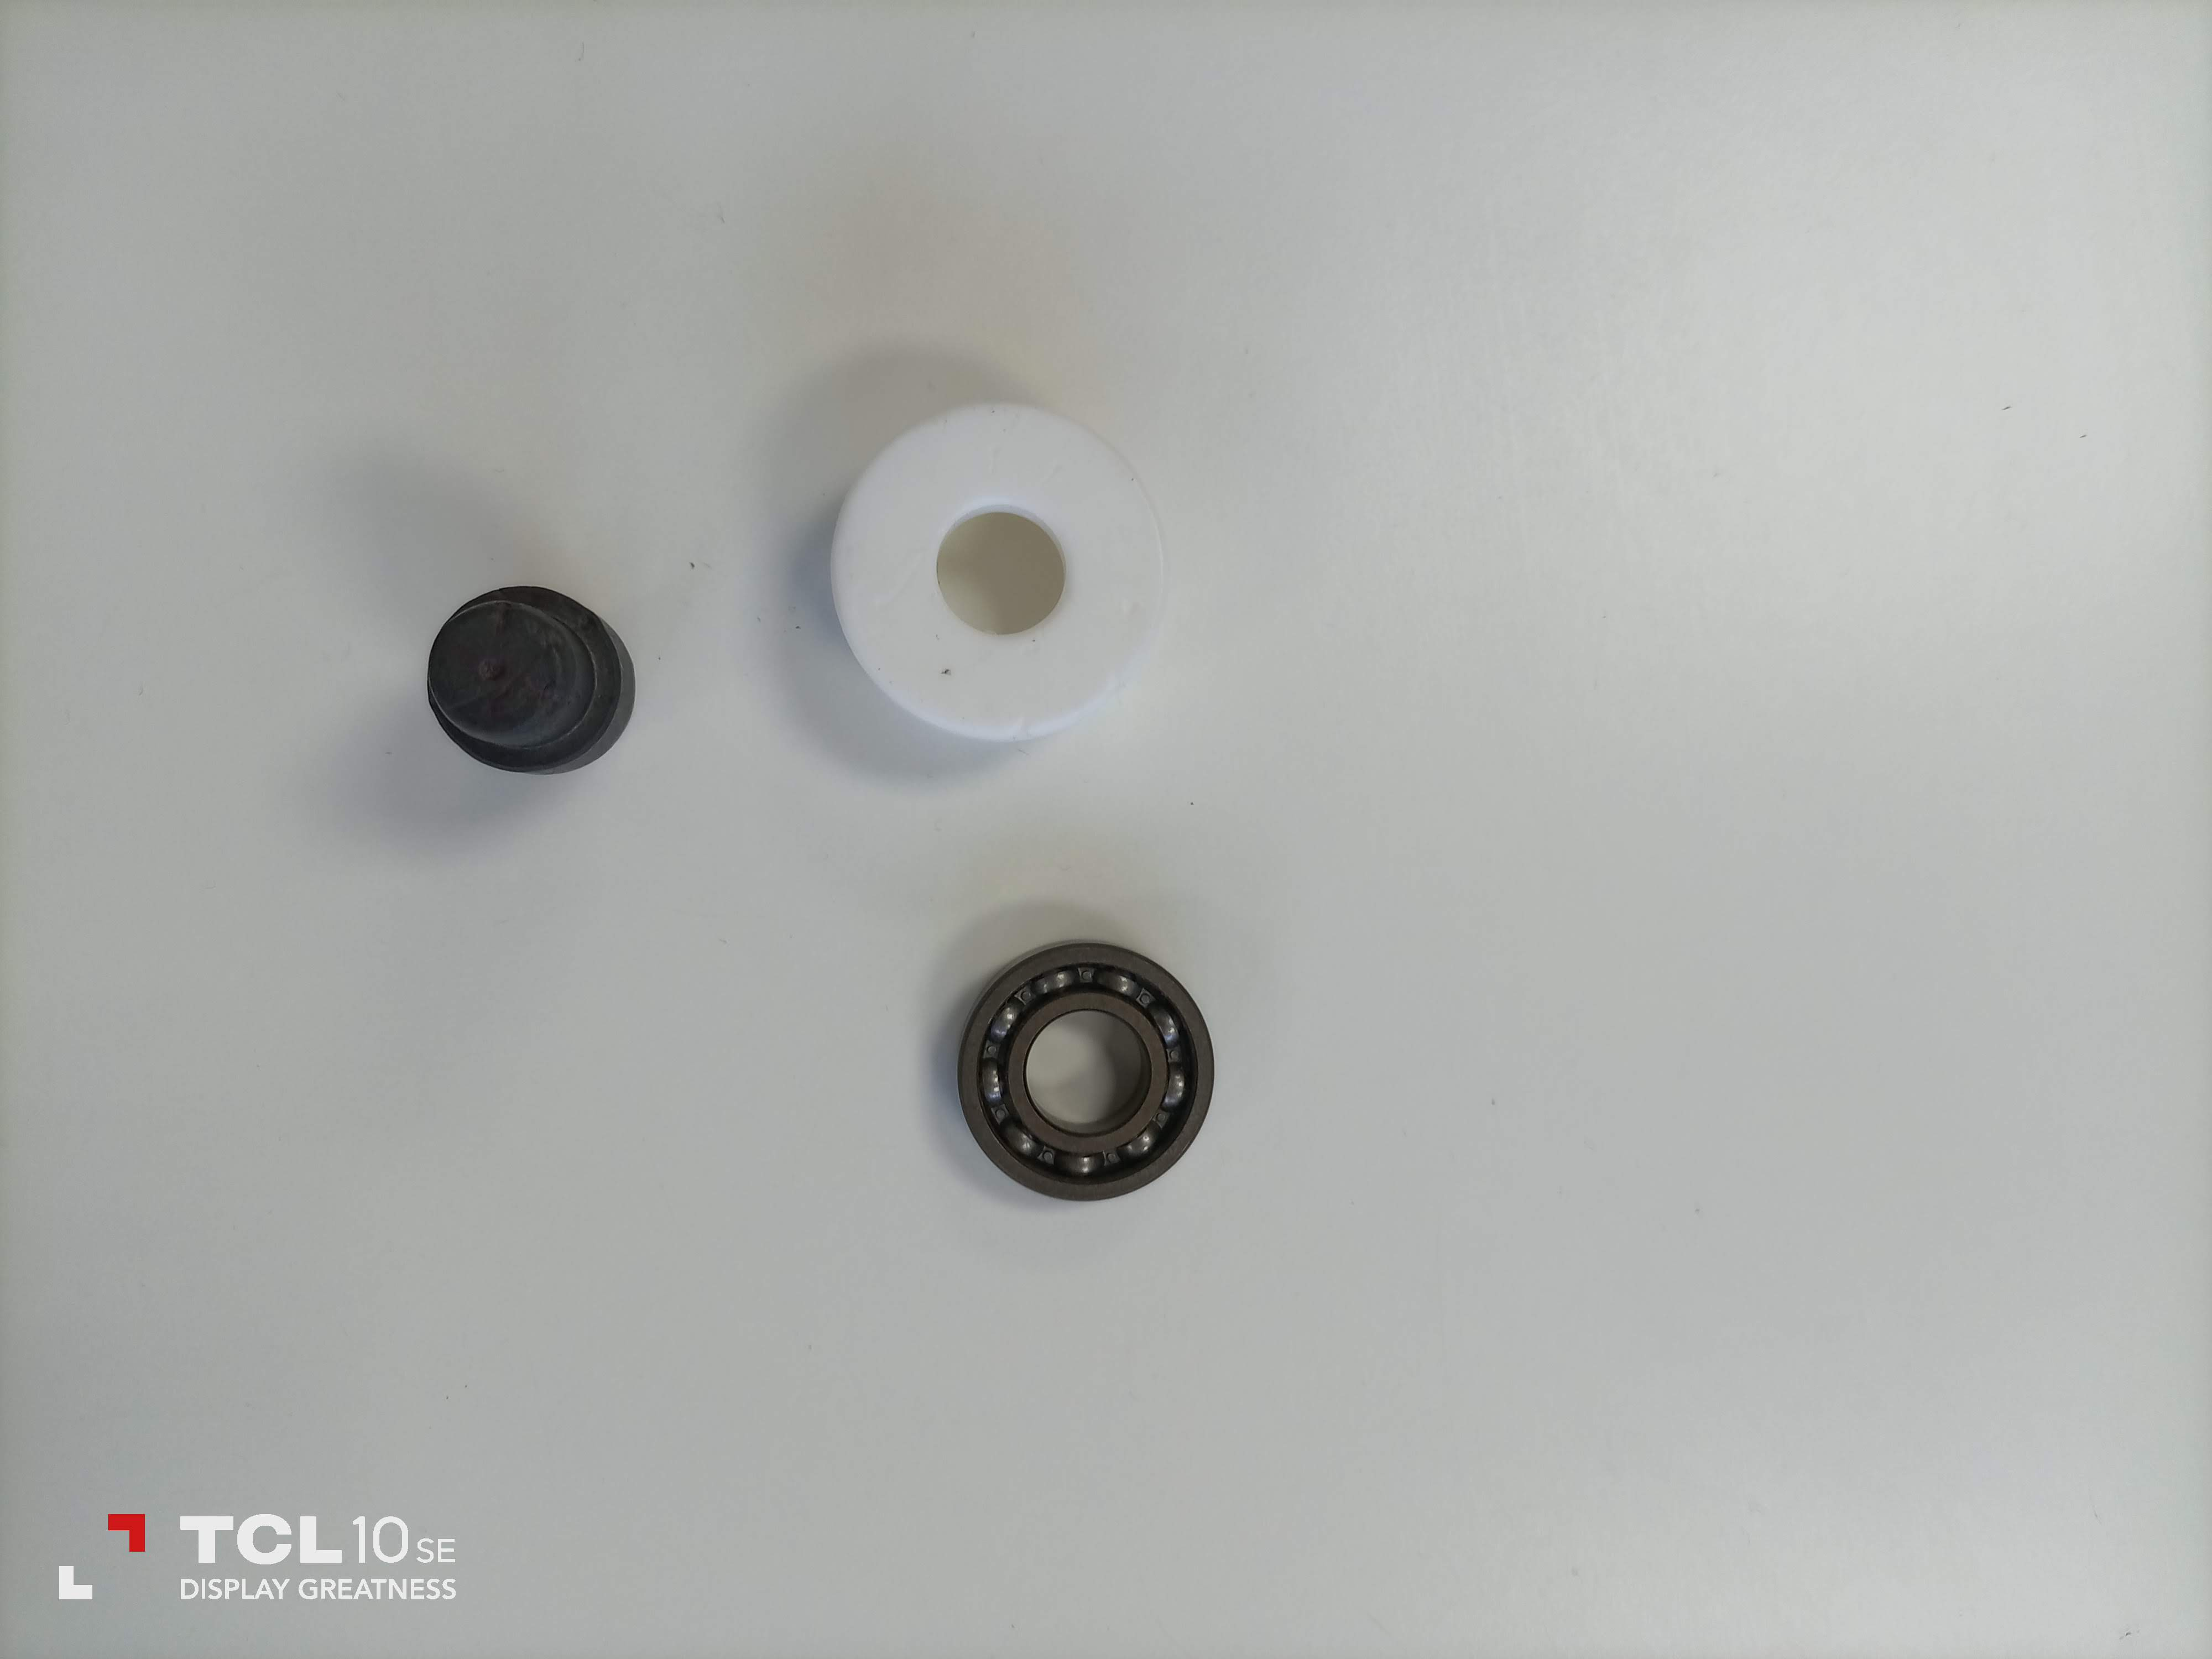Ardatza: (423, 592, 627, 769)
Roda: (935, 938, 1214, 1201)
Tapa: (824, 401, 1172, 755)
